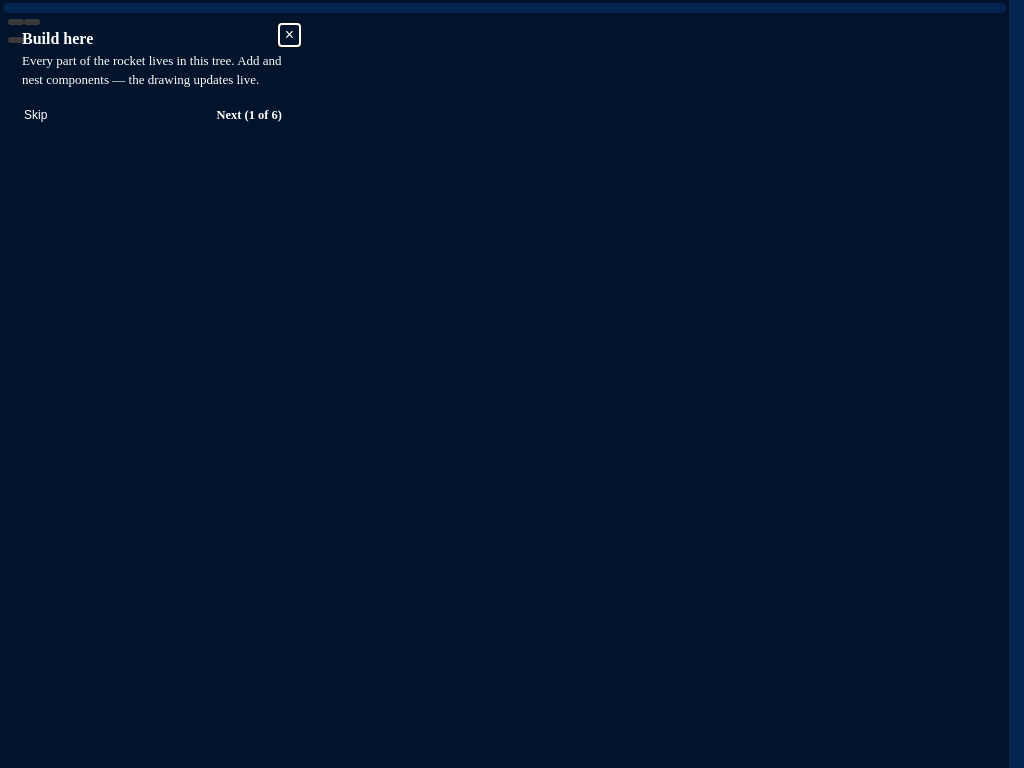
it: FirstRunTour › a NON-modal card › steps aside under a dialog opened mid-tour, and comes back where it was
The image size is (1024, 768).
Step 1. Click the button with class "tour-next" → (249, 115), box [204,102,294,129]
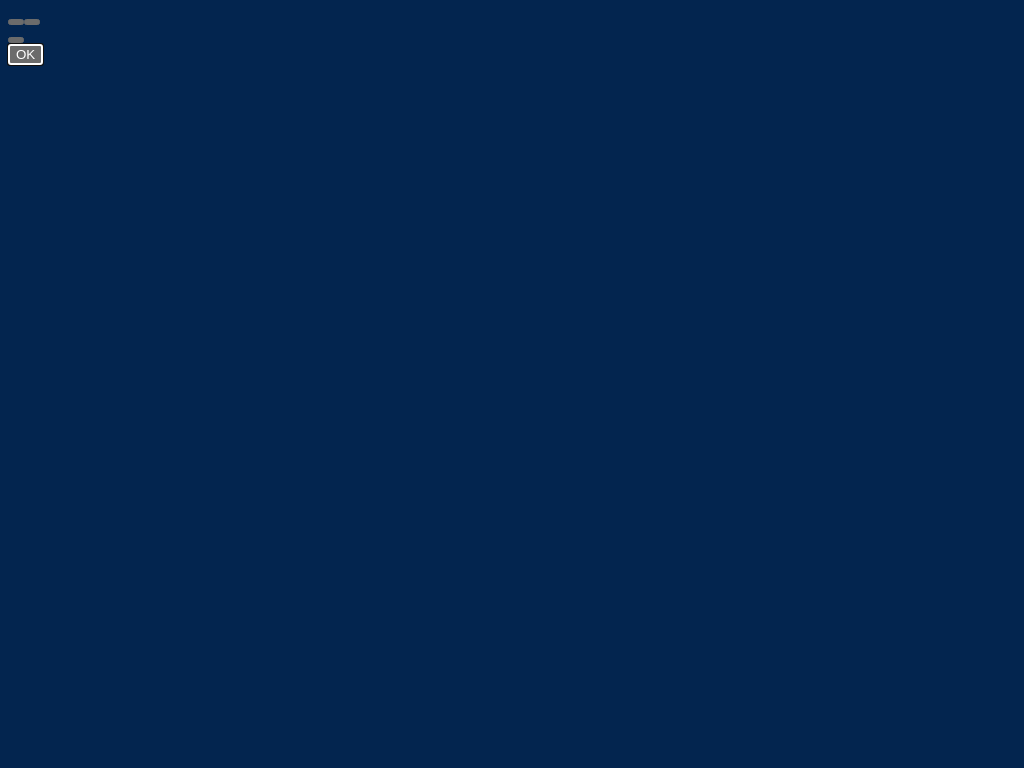
Check: the element with class "tour-ring" is gone
Step 2. Press Escape in the button with id "in-dialog", box [8,44,43,65]
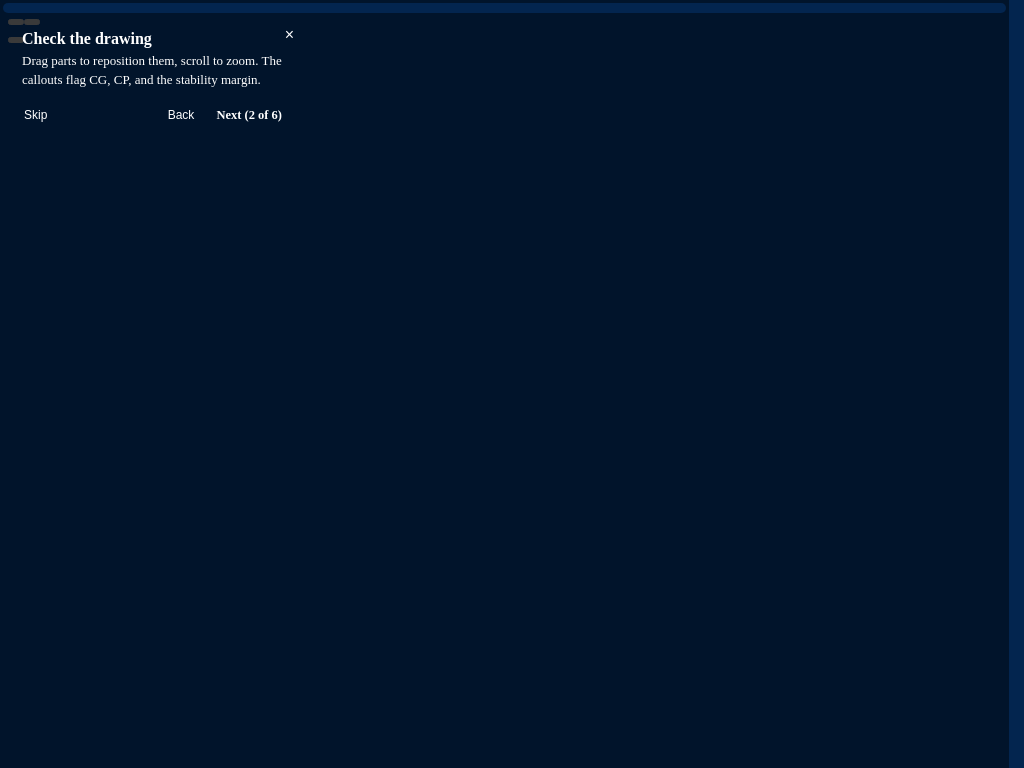
Check: the heading with class "tour-title" reads "Check the drawing", box [22,30,152,47]
